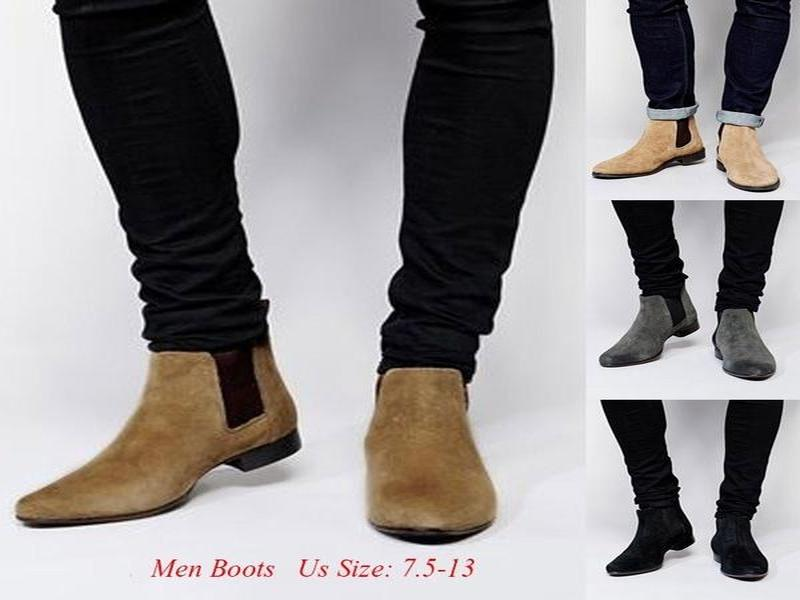shoes_men_chelsea_chelseaboots_suede_none_none_beige_none: (14, 339, 315, 544), (347, 365, 511, 548), (587, 113, 711, 183), (714, 122, 787, 194)
shoes_men_chelsea_chelseaboots_suede_none_none_black_none: (600, 506, 699, 582), (707, 513, 777, 586)
shoes_men_chelsea_chelseaboots_suede_none_none_grey_none: (594, 294, 705, 372), (708, 311, 784, 383)
